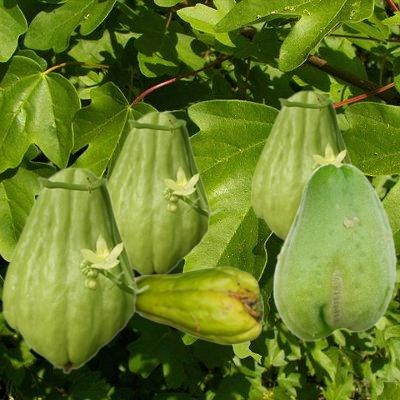sayote: (1, 167, 149, 373), (272, 162, 395, 340), (108, 111, 220, 274), (250, 90, 352, 240), (136, 266, 262, 344)
